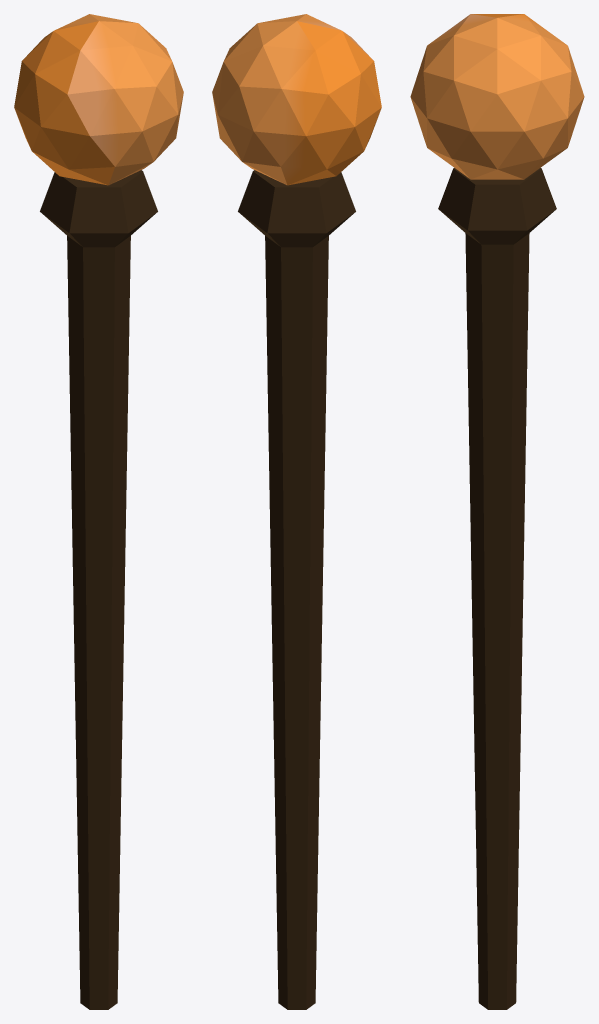
Rendered from Wand_Hero.glb.
The picture shows the model from 3 angles, left to right: view 1: azimuth 30°, elevation 25°; view 2: azimuth 150°, elevation 25°; view 3: azimuth 270°, elevation 25°; orthographic projection.
Visible parts, largest first — view 1: Wank_Wood, Wand_Core; view 2: Wank_Wood, Wand_Core; view 3: Wank_Wood, Wand_Core.
Boxes of the visible parts, left/top/right/bottom form: Wank_Wood: left=40, top=170, right=157, bottom=1009; Wand_Core: left=14, top=14, right=183, bottom=185; Wank_Wood: left=238, top=170, right=355, bottom=1009; Wand_Core: left=212, top=14, right=381, bottom=185; Wank_Wood: left=438, top=168, right=556, bottom=1009; Wand_Core: left=410, top=14, right=584, bottom=179.
Bounding box in the file's own units: 0.2663 × 1.75 × 0.28.
1 material, 1 textured.
